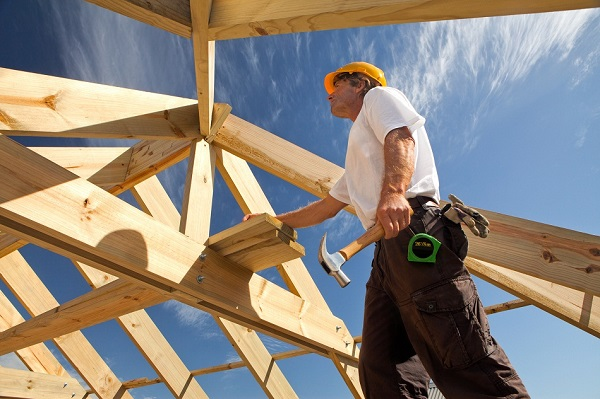hard hat: (323, 62, 388, 97)
